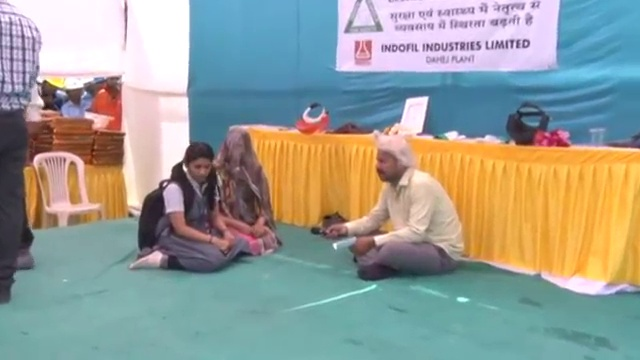helmet: (84, 111, 115, 131), (44, 75, 64, 91), (64, 76, 84, 92)
helmet_off: (368, 135, 416, 184), (221, 130, 258, 178), (180, 142, 214, 188), (105, 76, 124, 95)
helmet_on: (40, 74, 64, 100), (65, 77, 85, 106)
person: (366, 130, 464, 277), (136, 142, 232, 277), (0, 0, 41, 306), (211, 131, 278, 256), (89, 76, 124, 130), (60, 78, 92, 117)
